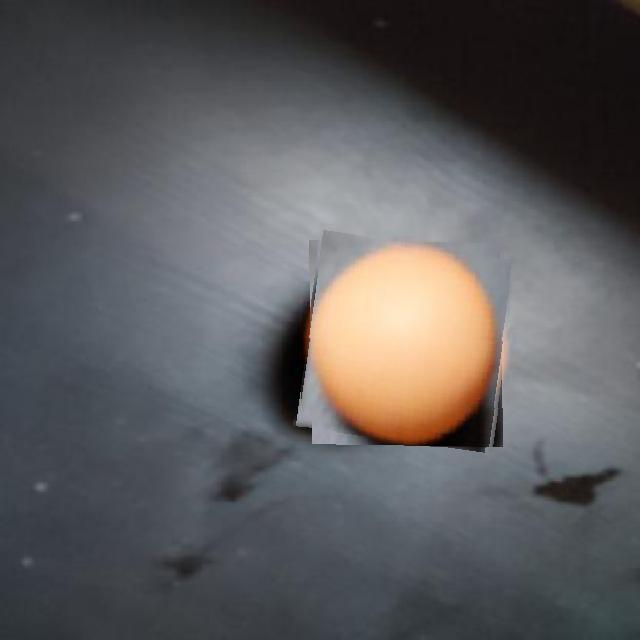biodegradable: (299, 236, 510, 447)
